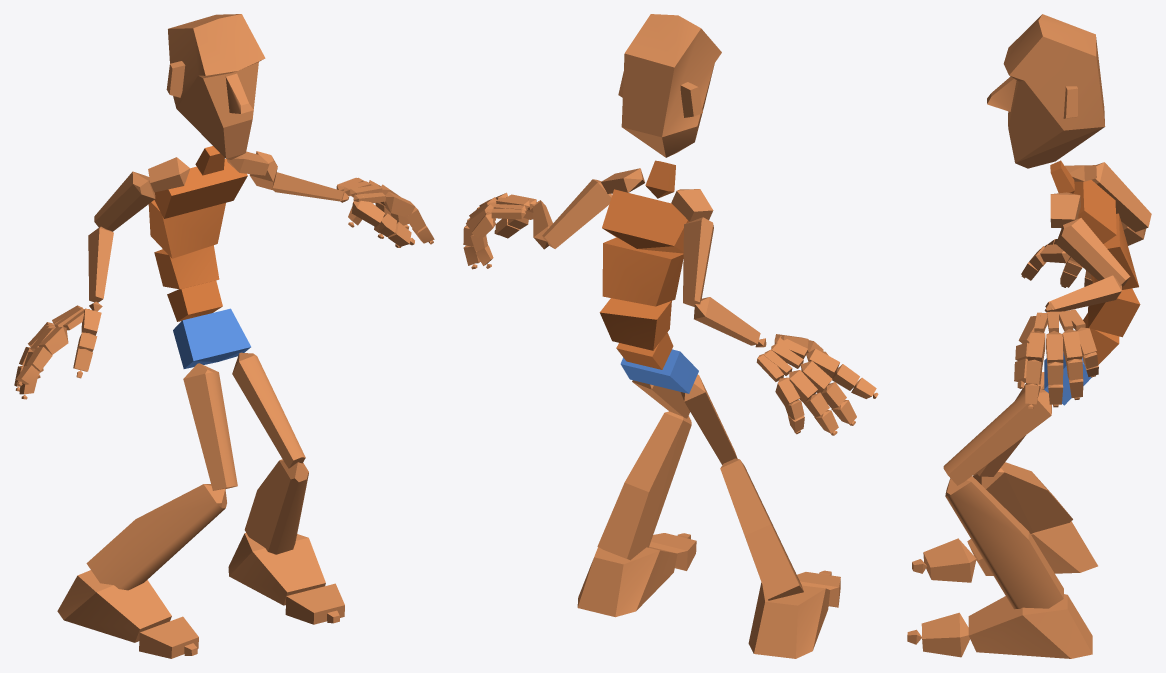
File: prueba169.obj
3 views of the same model, side by side, from view 1: azimuth 30°, elevation 25°; view 2: azimuth 150°, elevation 25°; view 3: azimuth 270°, elevation 25° (orthographic). The views are drawn at different scales.
Parts seen in each view (by area): view 1: BOPED_Head, BOPED_R_leg, BOPED_R_foot, BOPED_R_foot01, BOPED_L_leg, BOPED_R_legup, Bone01, BOPED_L_legup, Bone04, Bone05, Bone03, BOPED_R_arm_upper (+8 smaller); view 2: BOPED_Head, BOPED_L_leg, BOPED_R_foot01, BOPED_R_leg, BOPED_R_foot, Bone04, Bone05, Bone03, BOPED_R_arm_upper, BOPED_L_arm_upper, BOPED_R_legup, Bone01 (+9 smaller); view 3: BOPED_Head, BOPED_L_leg, BOPED_R_foot01, BOPED_L_legup, BOPED_R_leg, BOPED_R_foot, BOPED_L_arm_upper, Bone05, BOPED_R_foot_toe01, BOPED_R_arm_upper, BOPED_R_foot_toe04, Bone03 (+15 smaller).
Boxes of the visible parts, x1,y1,x2,y2 form: BOPED_Head: (166, 14, 265, 159); BOPED_R_leg: (86, 484, 226, 590); BOPED_R_foot: (57, 570, 171, 642); BOPED_R_foot01: (228, 533, 325, 605); BOPED_L_leg: (244, 459, 308, 554); BOPED_R_legup: (183, 363, 237, 490); Bone01: (173, 308, 250, 368); BOPED_L_legup: (232, 352, 305, 468); Bone04: (148, 200, 225, 258); Bone05: (154, 159, 247, 218); Bone03: (154, 245, 219, 289); BOPED_R_arm_upper: (94, 171, 155, 231); BOPED_Head: (618, 14, 721, 157); BOPED_L_leg: (597, 411, 691, 560); BOPED_R_foot01: (577, 546, 677, 617); BOPED_R_leg: (720, 458, 803, 600); BOPED_R_foot: (748, 582, 830, 658); Bone04: (602, 237, 683, 306); Bone05: (602, 189, 690, 253); Bone03: (599, 298, 671, 350); BOPED_R_arm_upper: (683, 217, 713, 306); BOPED_L_arm_upper: (542, 179, 611, 248); BOPED_R_legup: (680, 374, 737, 464); Bone01: (620, 349, 698, 393); BOPED_Head: (987, 14, 1105, 168); BOPED_L_leg: (945, 476, 1063, 609); BOPED_R_foot01: (968, 594, 1092, 658); BOPED_L_legup: (943, 389, 1051, 485); BOPED_R_leg: (973, 462, 1072, 533); BOPED_R_foot: (967, 521, 1097, 575); BOPED_L_arm_upper: (1056, 218, 1130, 286); Bone05: (1073, 180, 1116, 243); BOPED_R_foot_toe01: (923, 538, 976, 582); BOPED_R_arm_upper: (1091, 162, 1151, 232); BOPED_R_foot_toe04: (921, 612, 969, 657); Bone03: (1088, 288, 1140, 337).
Size of the model in its own units: 130 by 175 by 65.06.
